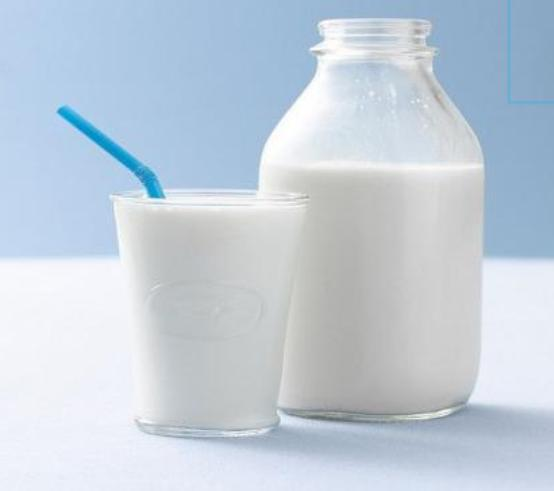produk_susu: (315, 64, 471, 423), (121, 202, 283, 427)
